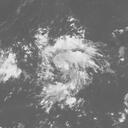cyclone: (49, 38, 87, 81)
